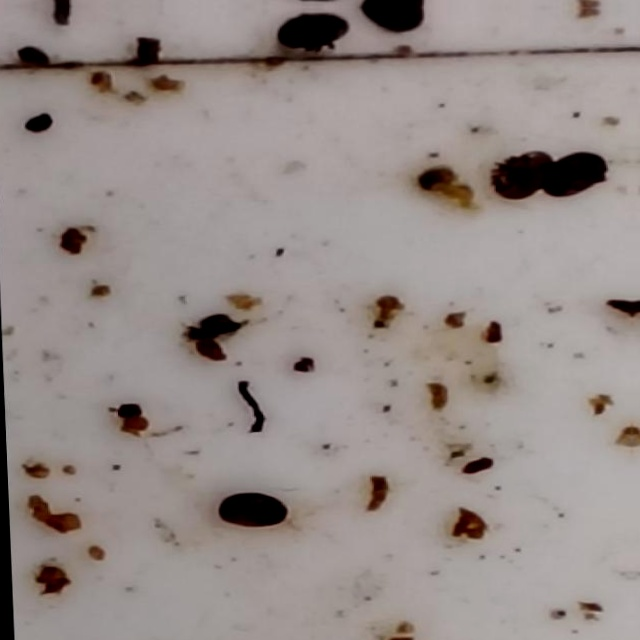varroa: (486, 149, 550, 206), (272, 12, 350, 53), (209, 493, 288, 532), (545, 152, 608, 199), (350, 7, 429, 35), (12, 47, 54, 73), (19, 113, 54, 136)
